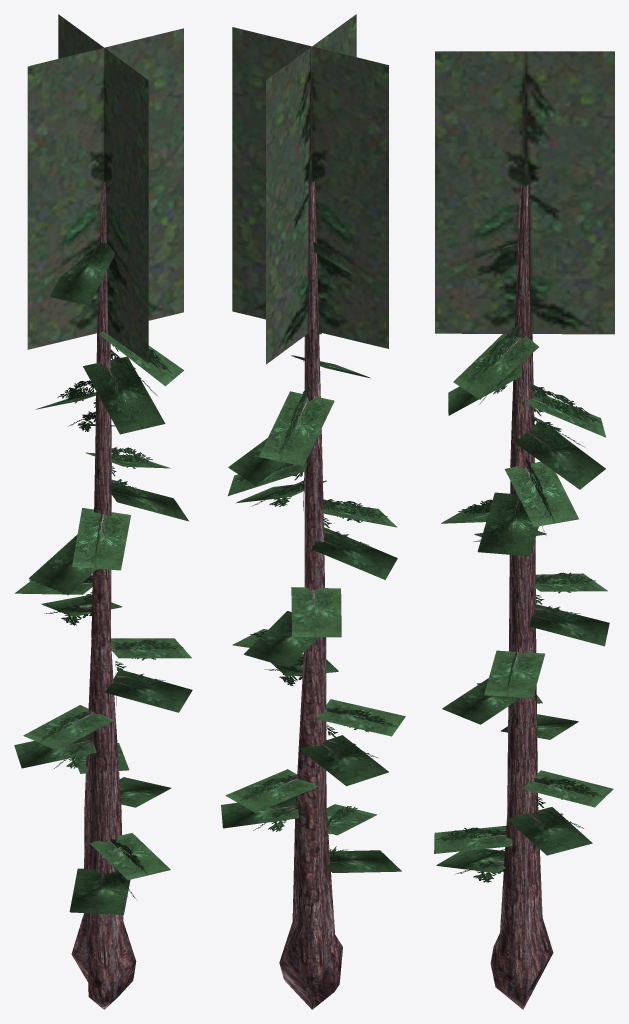
Rendered from frst_conf_redwood_lg_l1.fbx.
The picture shows the model from 3 angles, left to right: view 1: azimuth 30°, elevation 25°; view 2: azimuth 150°, elevation 25°; view 3: azimuth 270°, elevation 25°; orthographic projection.
Parts seen in each view (by area): view 1: mesh_node; view 2: mesh_node; view 3: mesh_node.
Boxes of the visible parts, x1=… form: mesh_node: x1=14, y1=14, x2=192, y2=1009; mesh_node: x1=221, y1=14, x2=405, y2=1009; mesh_node: x1=434, y1=51, x2=614, y2=1009.
Bounding box in the file's own units: 19.41 × 112 × 19.06.
